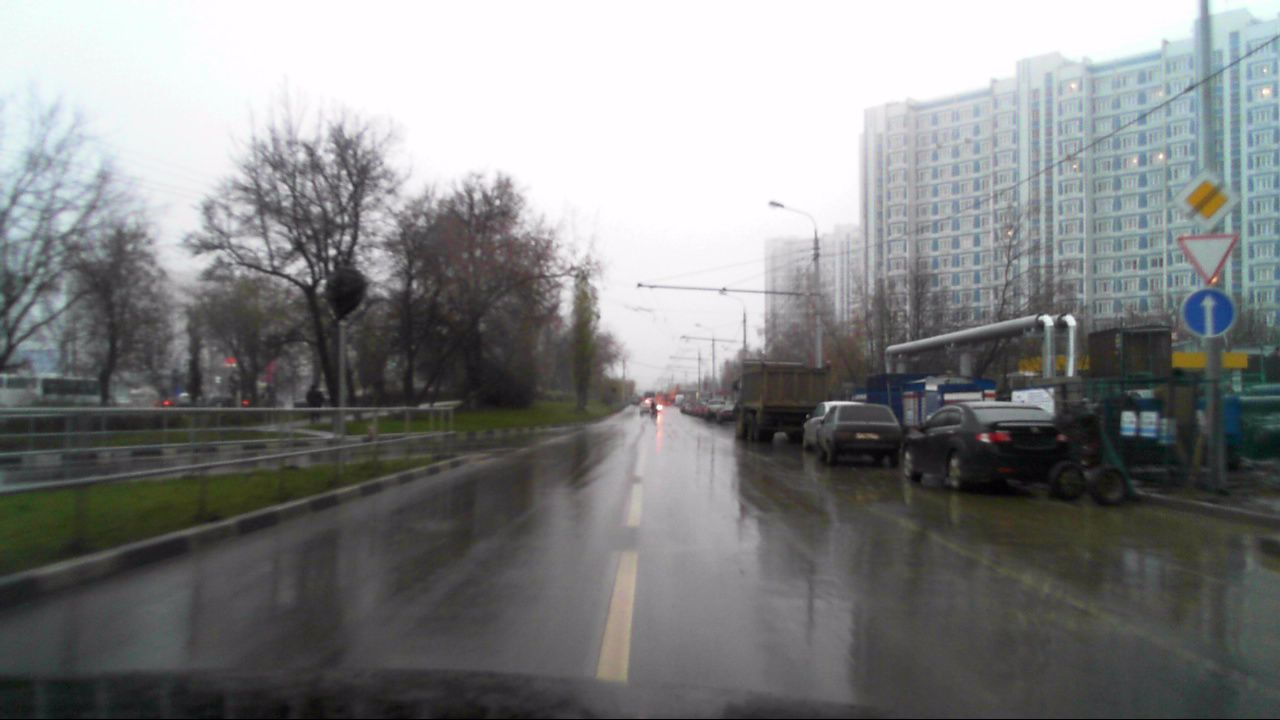main road: (1178, 170, 1236, 232)
